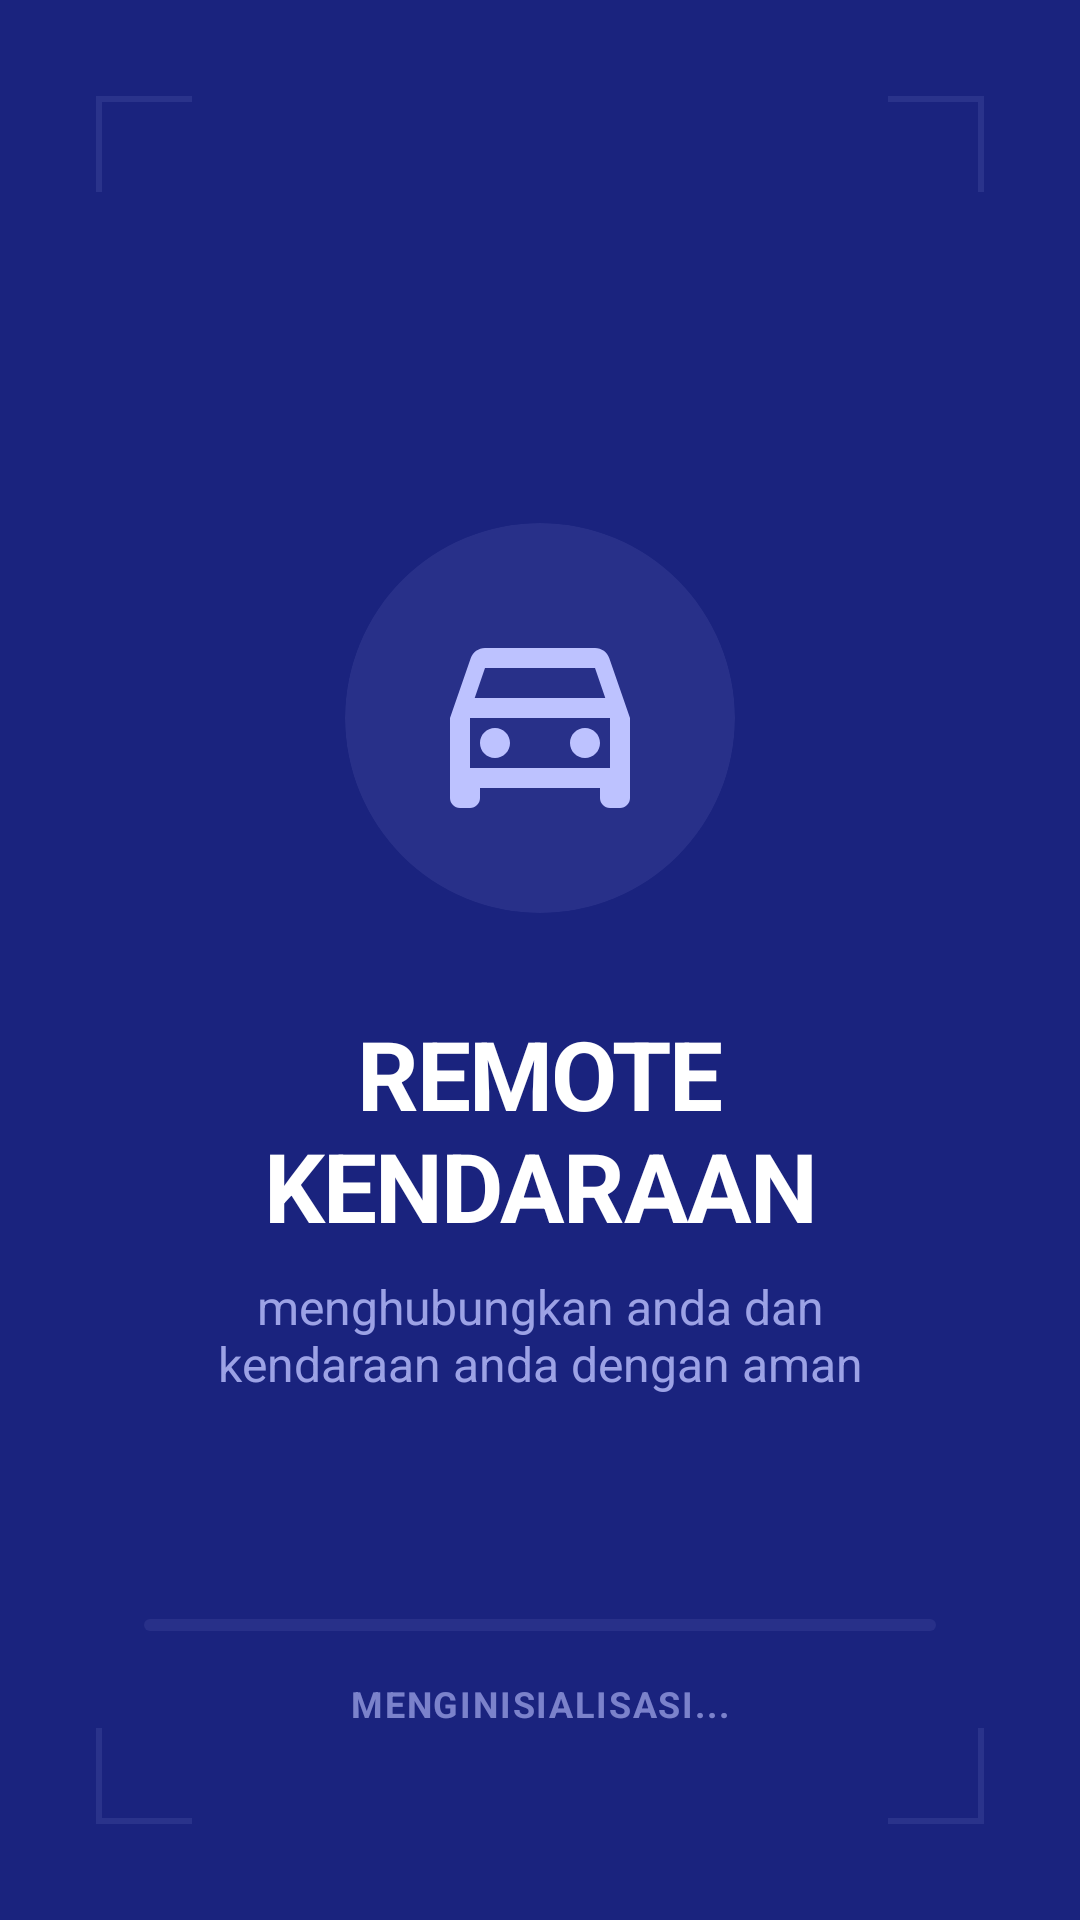

Named icons in this screenshot (1080w x 1920h) and their centers, [x,y]:
Ikon Kendaraan: [540,728]
